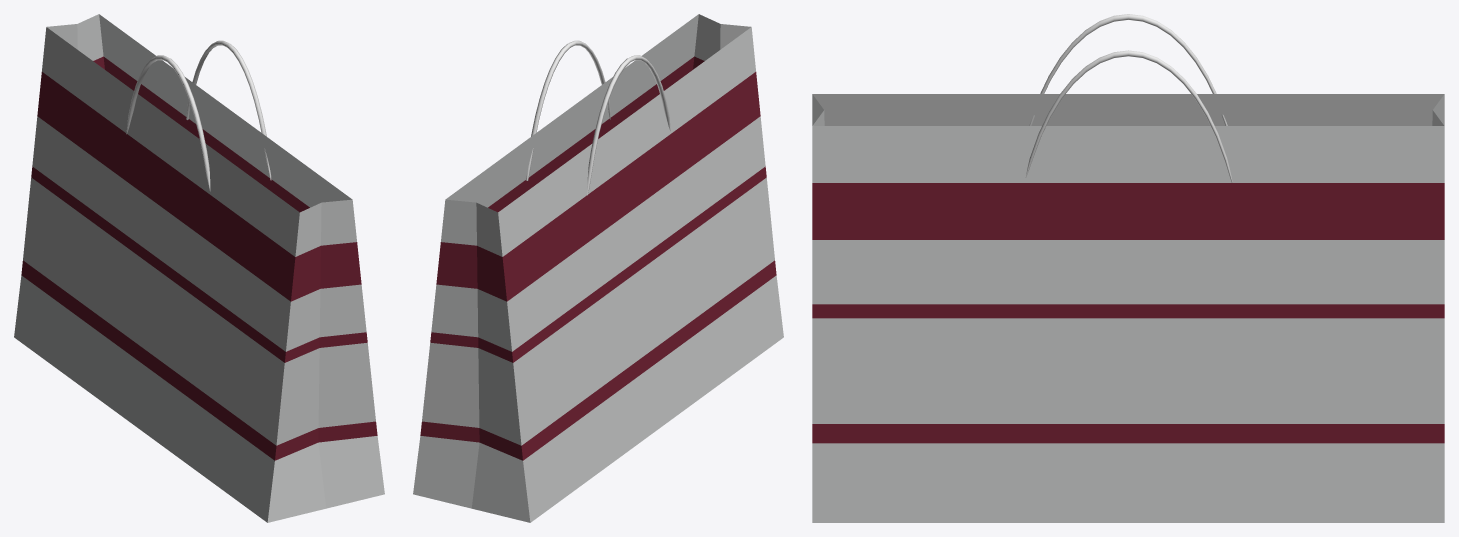
Rendered from bagSmallLow.fbx.
The picture shows the model from 3 angles, left to right: view 1: azimuth 30°, elevation 25°; view 2: azimuth 150°, elevation 25°; view 3: azimuth 270°, elevation 25°; orthographic projection. The views are drawn at different scales.
Parts seen in each view (by area): view 1: bagSmall; view 2: bagSmall; view 3: bagSmall.
Boxes of the visible parts, x1,y1,x2,y2 form: bagSmall: [14, 14, 384, 522]; bagSmall: [413, 14, 783, 522]; bagSmall: [812, 14, 1444, 522].
Bounding box in the file's own units: 0.2522 × 0.7492 × 0.9433.
